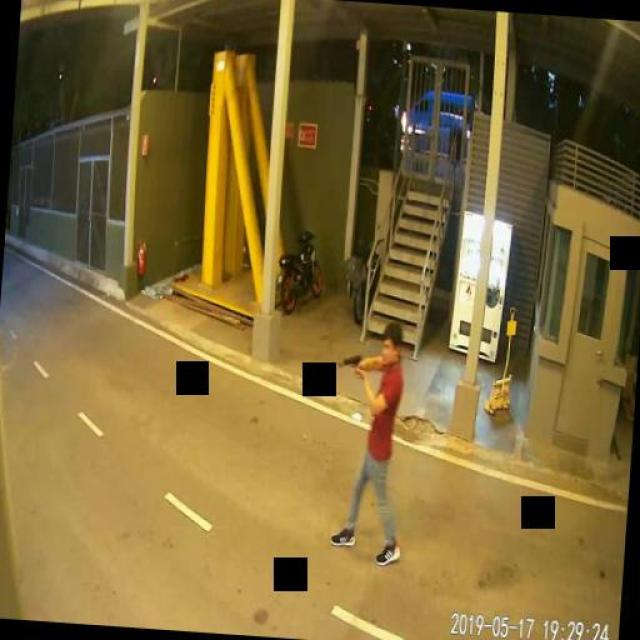gun: (342, 352, 362, 378)
